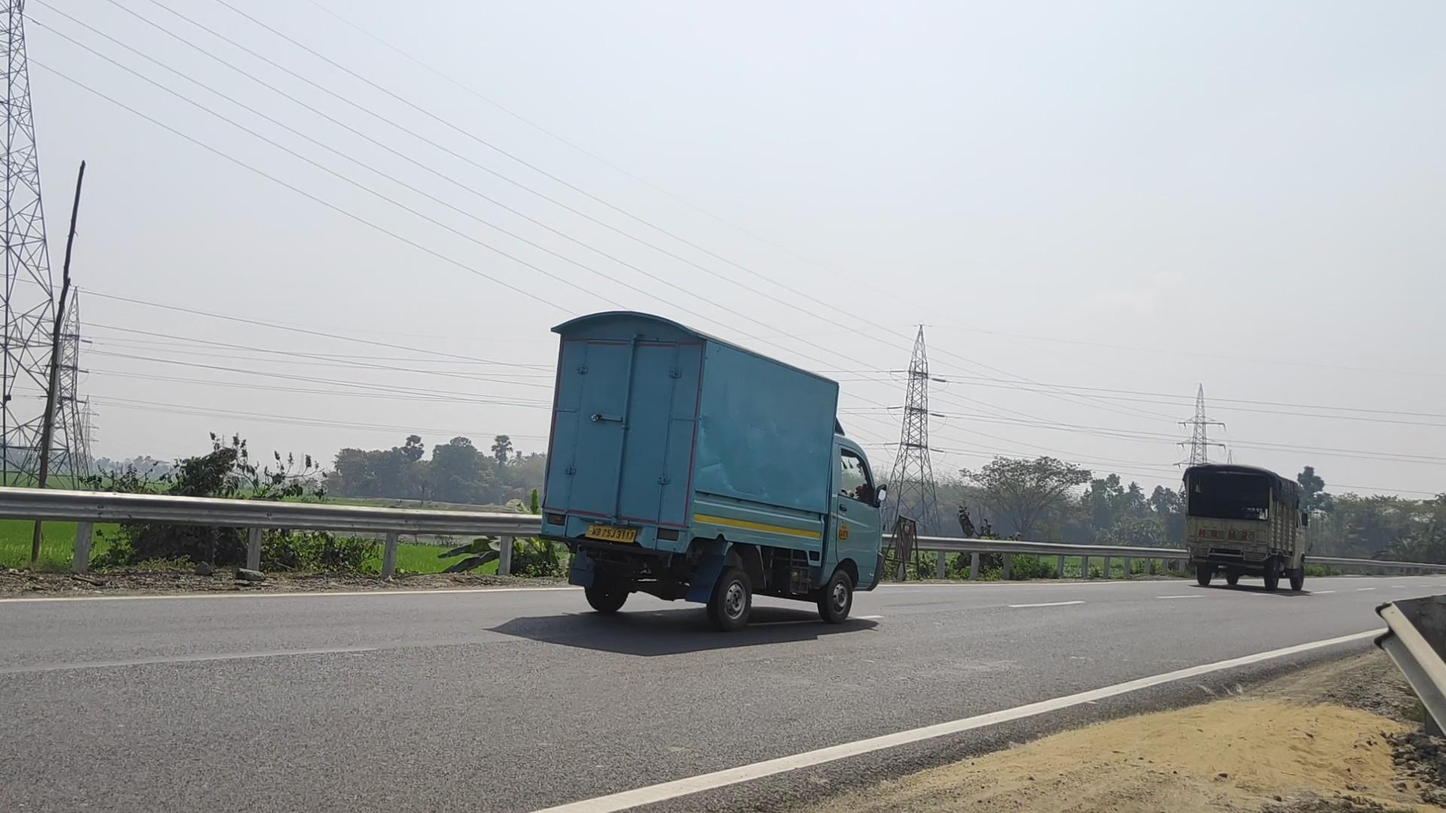truck: (1182, 463, 1308, 591)
van: (538, 310, 887, 634)
